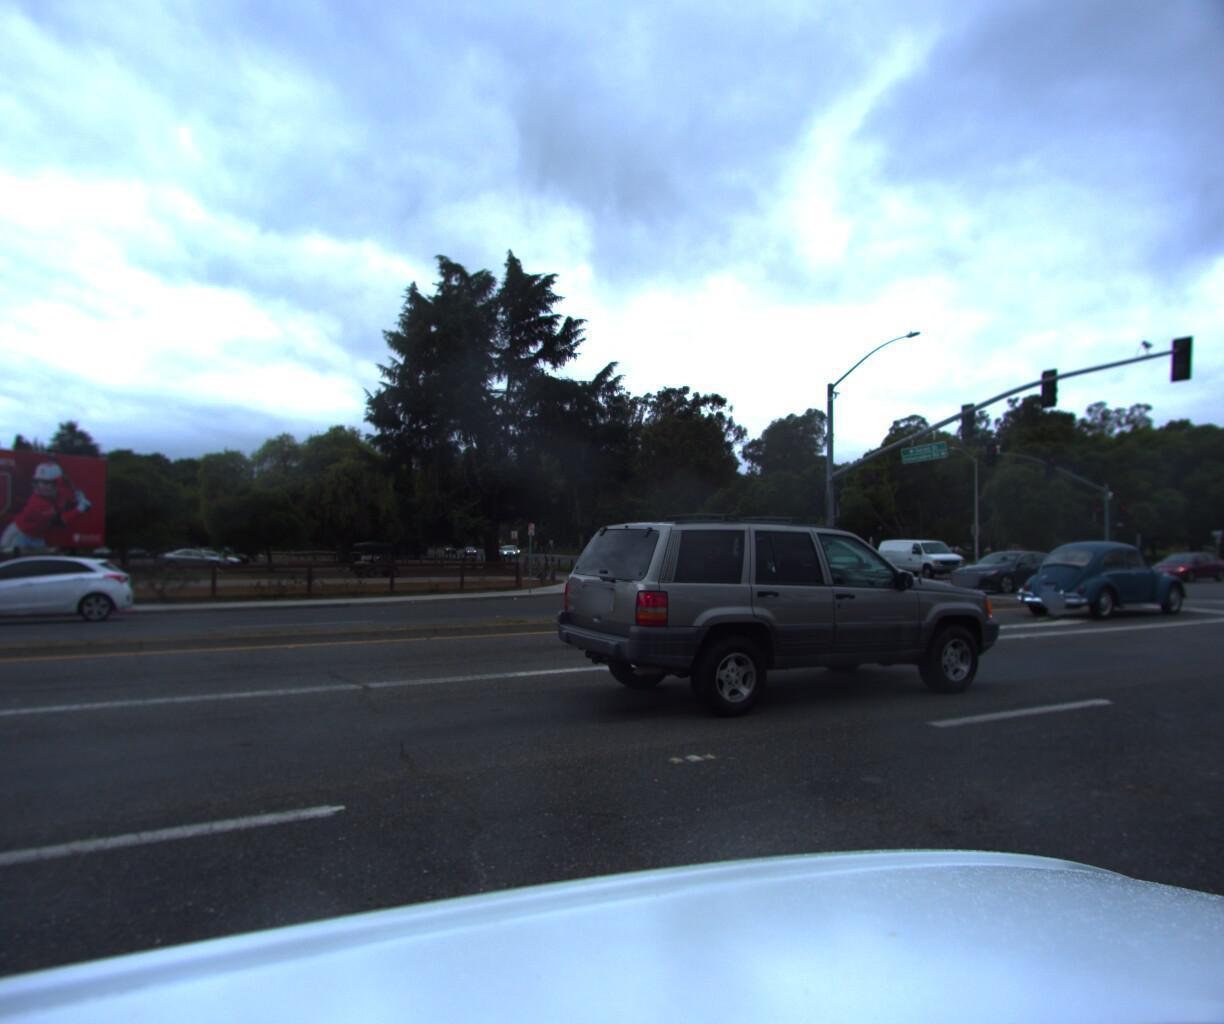car: (544, 499, 1016, 734), (631, 523, 951, 651), (1000, 533, 1198, 620), (0, 556, 137, 636), (942, 550, 1073, 597), (778, 537, 874, 583), (869, 537, 967, 580), (807, 544, 896, 581), (1138, 548, 1224, 580)
truck: (675, 509, 754, 593)
